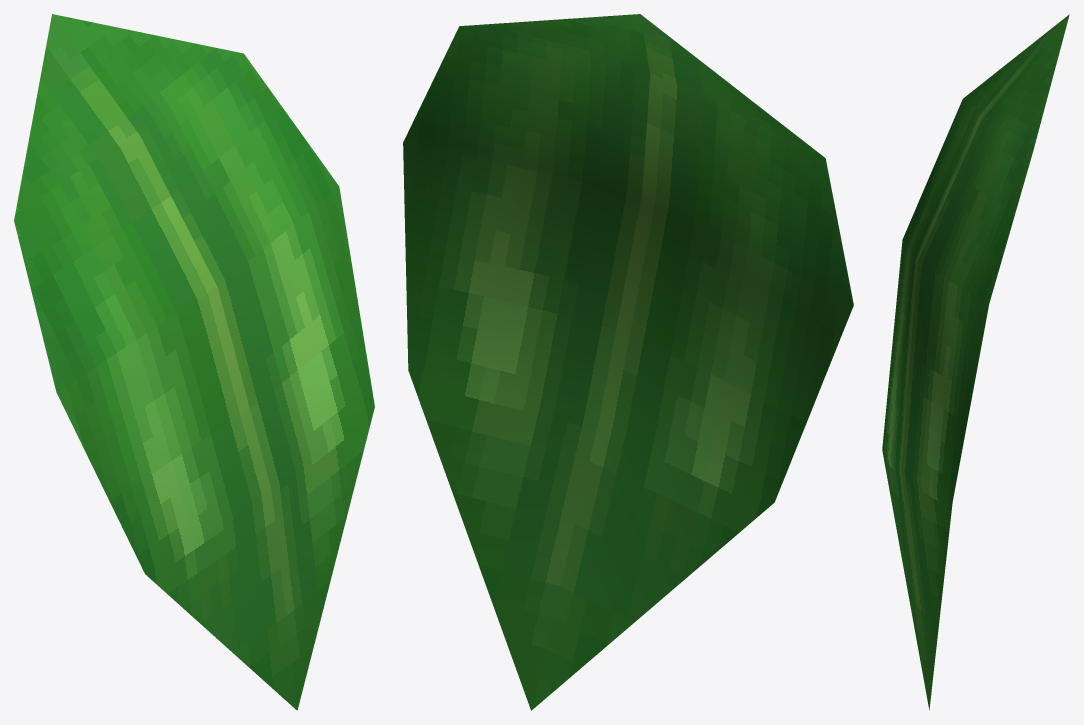
The model's file is EKH_BARRELROOM_PS_JA1_OBJECT122.fbx.
3 views of the same model, side by side, from view 1: azimuth 30°, elevation 25°; view 2: azimuth 150°, elevation 25°; view 3: azimuth 270°, elevation 25° (orthographic). The views are drawn at different scales.
Parts seen in each view (by area): view 1: EKH_BARRELROOM_PS_JA1_OBJECT122; view 2: EKH_BARRELROOM_PS_JA1_OBJECT122; view 3: EKH_BARRELROOM_PS_JA1_OBJECT122.
Part boxes in pixels (box(x1,y1,x2,y2)): EKH_BARRELROOM_PS_JA1_OBJECT122: box(14, 14, 374, 710); EKH_BARRELROOM_PS_JA1_OBJECT122: box(403, 14, 853, 710); EKH_BARRELROOM_PS_JA1_OBJECT122: box(882, 14, 1069, 709).
Size of the model in its own units: 1685 by 3089 by 844.
1 material, 1 textured.
